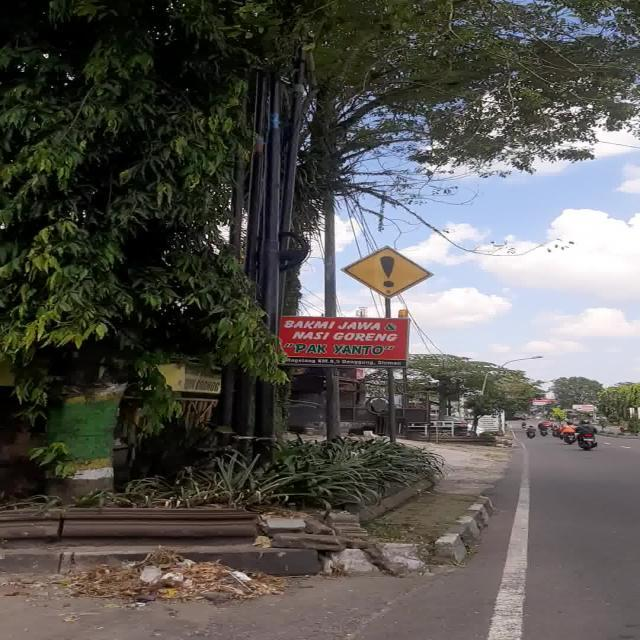Hati-Hati: (341, 245, 434, 299)
